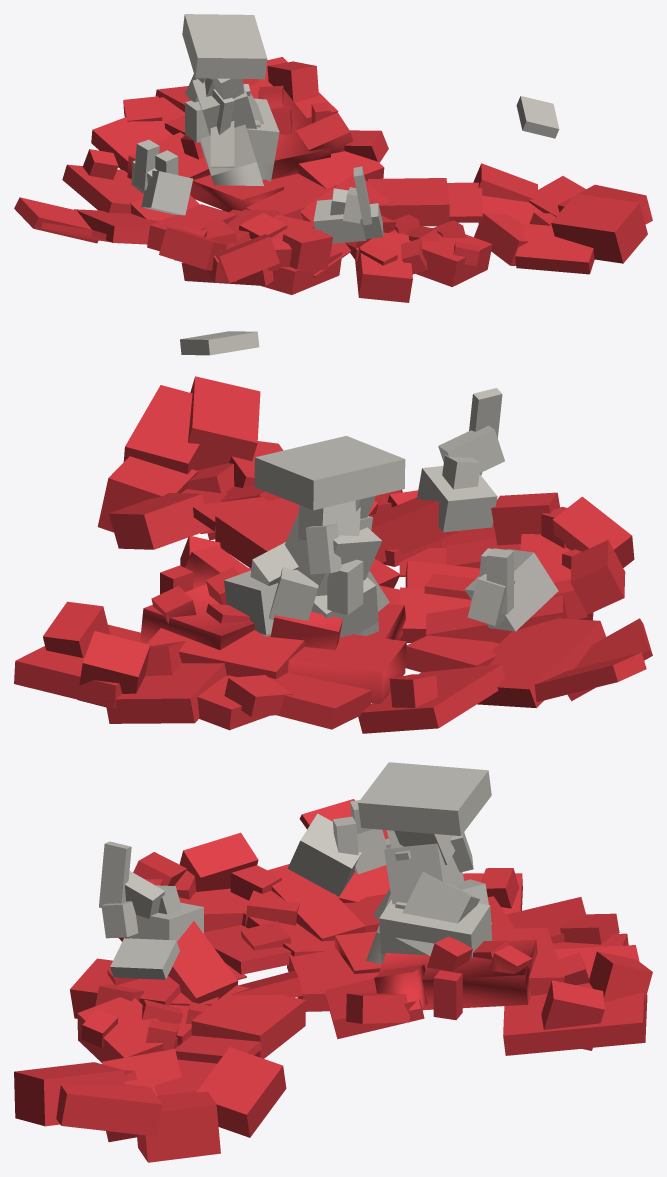
Rendered from Grot_RubbleB.fbx.
The picture shows the model from 3 angles, top to bottom: view 1: azimuth 30°, elevation 25°; view 2: azimuth 150°, elevation 25°; view 3: azimuth 270°, elevation 25°; orthographic projection. The views are drawn at different scales.
Visible parts, largest first — view 1: RubbleChunkB0, NonRubbleRubble, RubbleCkunkB1, RubbleChunkB2, RubbleChunkB3, RubbleChunkB00.001; view 2: RubbleChunkB0, NonRubbleRubble, RubbleCkunkB1, RubbleChunkB2, RubbleChunkB00.001, RubbleChunkB3; view 3: RubbleChunkB0, NonRubbleRubble, RubbleCkunkB1, RubbleChunkB2, RubbleChunkB00.001, RubbleChunkB3.
Boxes of the visible parts, bbox=[...] form: RubbleChunkB0: bbox=[14, 57, 449, 244]; NonRubbleRubble: bbox=[131, 14, 559, 243]; RubbleCkunkB1: bbox=[447, 163, 652, 274]; RubbleChunkB2: bbox=[147, 204, 351, 294]; RubbleChunkB3: bbox=[346, 214, 492, 302]; RubbleChunkB00.001: bbox=[127, 89, 396, 247]; RubbleChunkB0: bbox=[14, 498, 652, 733]; NonRubbleRubble: bbox=[180, 331, 558, 637]; RubbleCkunkB1: bbox=[97, 376, 283, 549]; RubbleChunkB2: bbox=[399, 492, 634, 643]; RubbleChunkB00.001: bbox=[140, 497, 456, 703]; RubbleChunkB3: bbox=[298, 489, 495, 566]; RubbleChunkB0: bbox=[191, 799, 652, 1058]; NonRubbleRubble: bbox=[99, 762, 492, 979]; RubbleCkunkB1: bbox=[14, 1035, 286, 1162]; RubbleChunkB2: bbox=[119, 832, 365, 979]; RubbleChunkB00.001: bbox=[168, 896, 564, 1010]; RubbleChunkB3: bbox=[70, 958, 218, 1062].
Size of the model in its own units: 4834 by 4453 by 1811.
